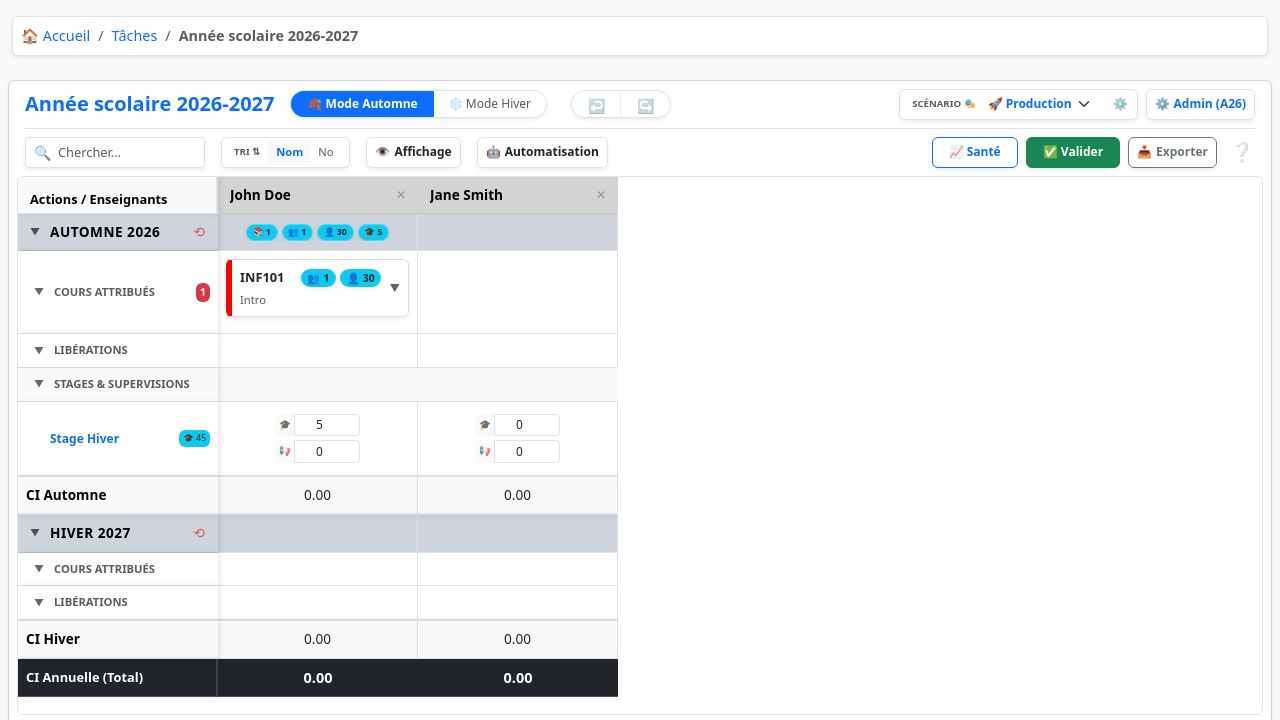
Test: Undo/Redo History Workflow › should undo an update to a supervision via keyboard shortcut
Click the button "👁️ Affichage": [414, 153] box [367, 137, 461, 168]
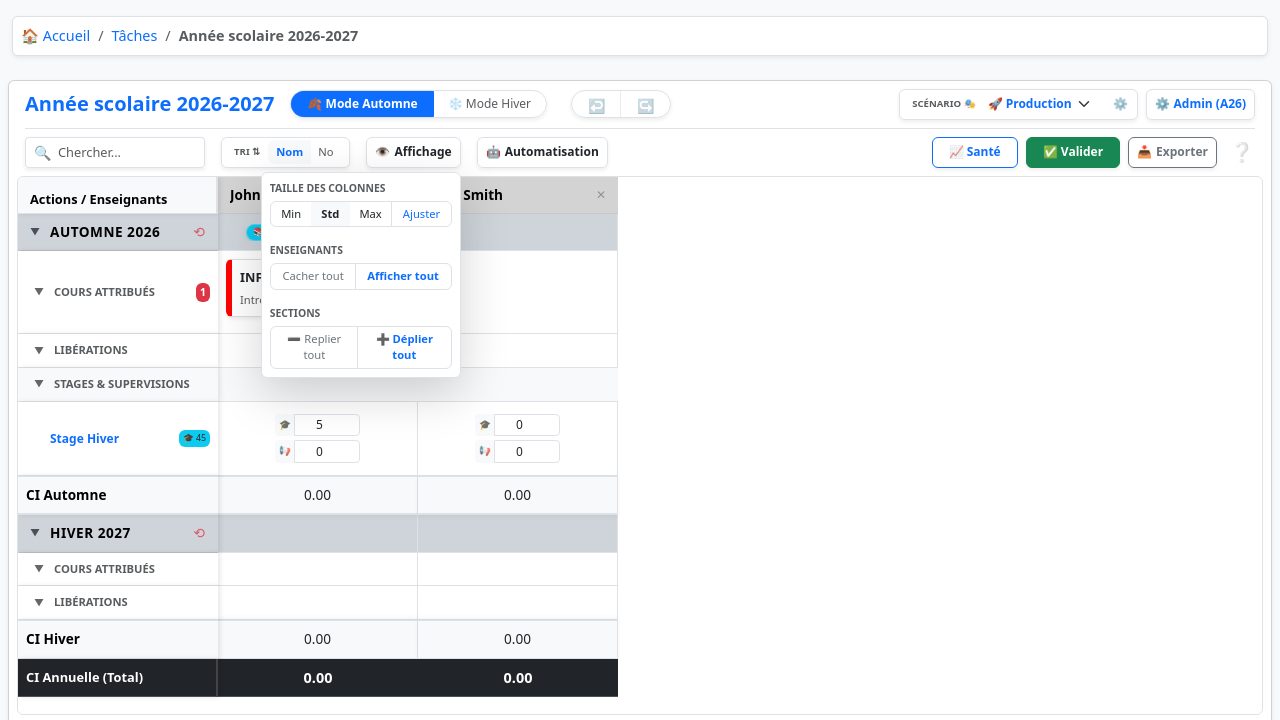
Click the button "➕ Déplier tout": [404, 348] box [357, 327, 451, 369]
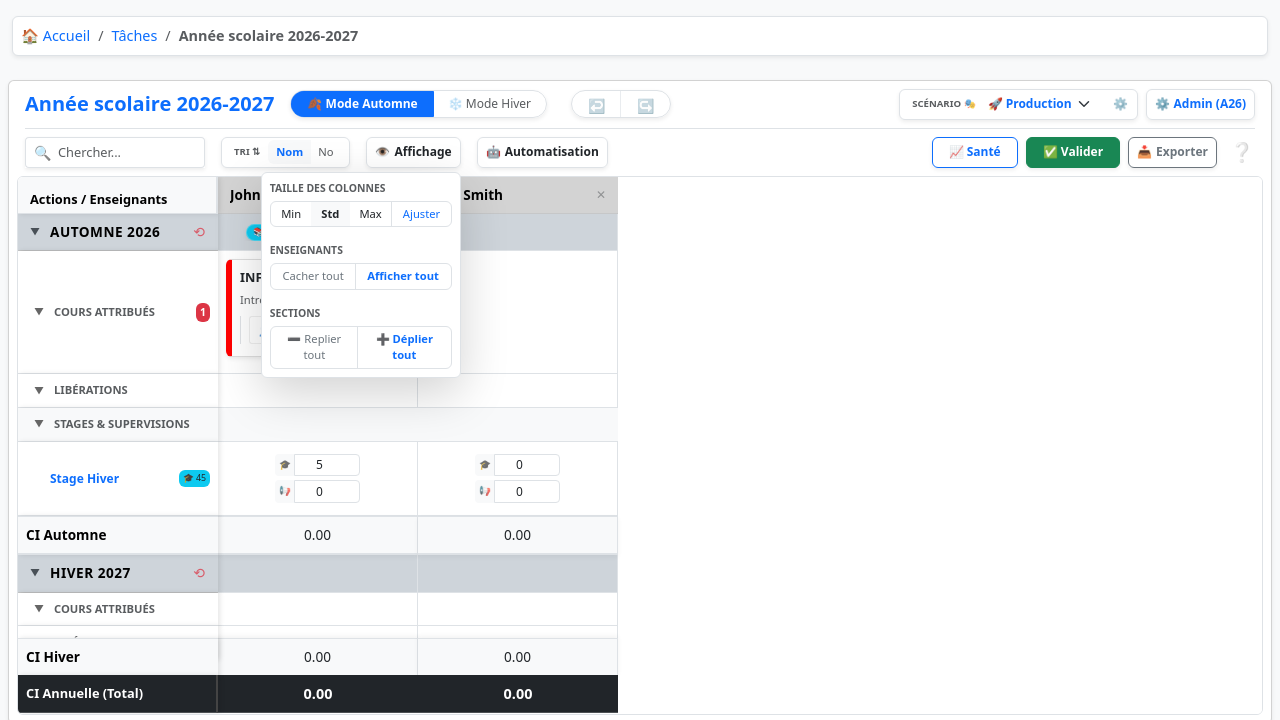
Replace the text in the 1st number field titled "Nombre de stagiaires" with "10": [327, 465] box [294, 454, 360, 476]
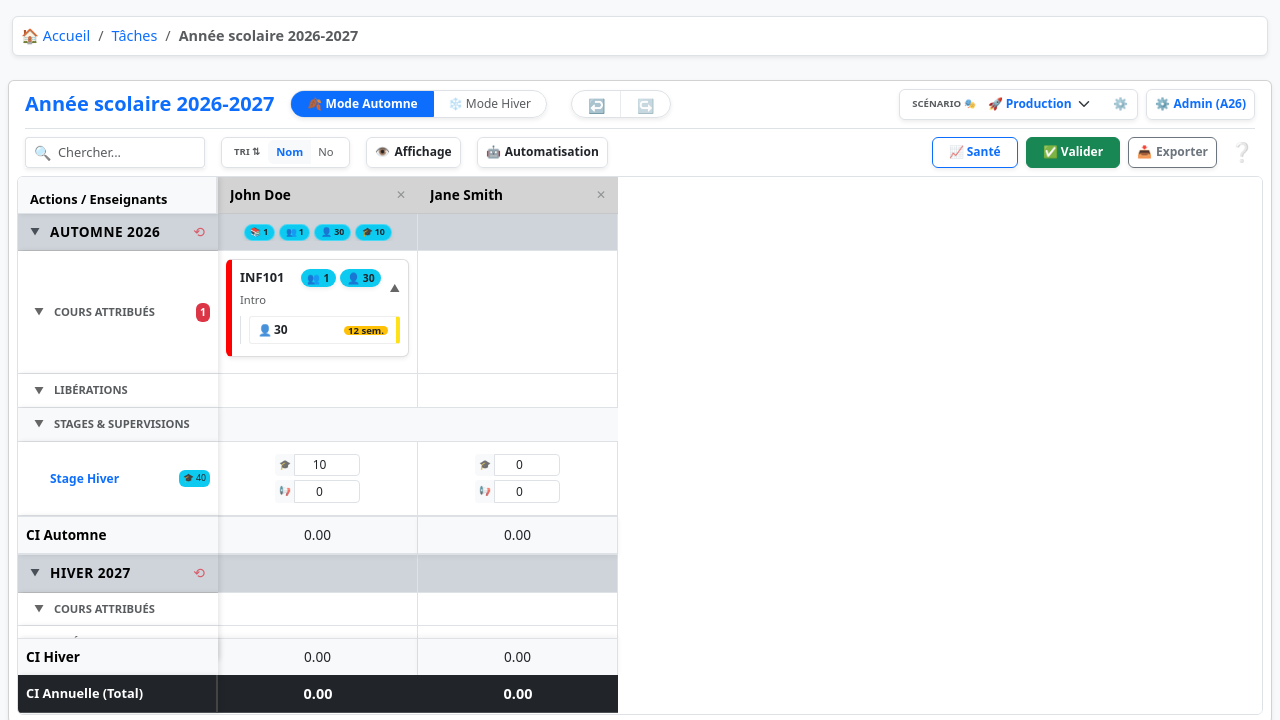
Click the button "↩️": [597, 104] box [572, 91, 621, 117]
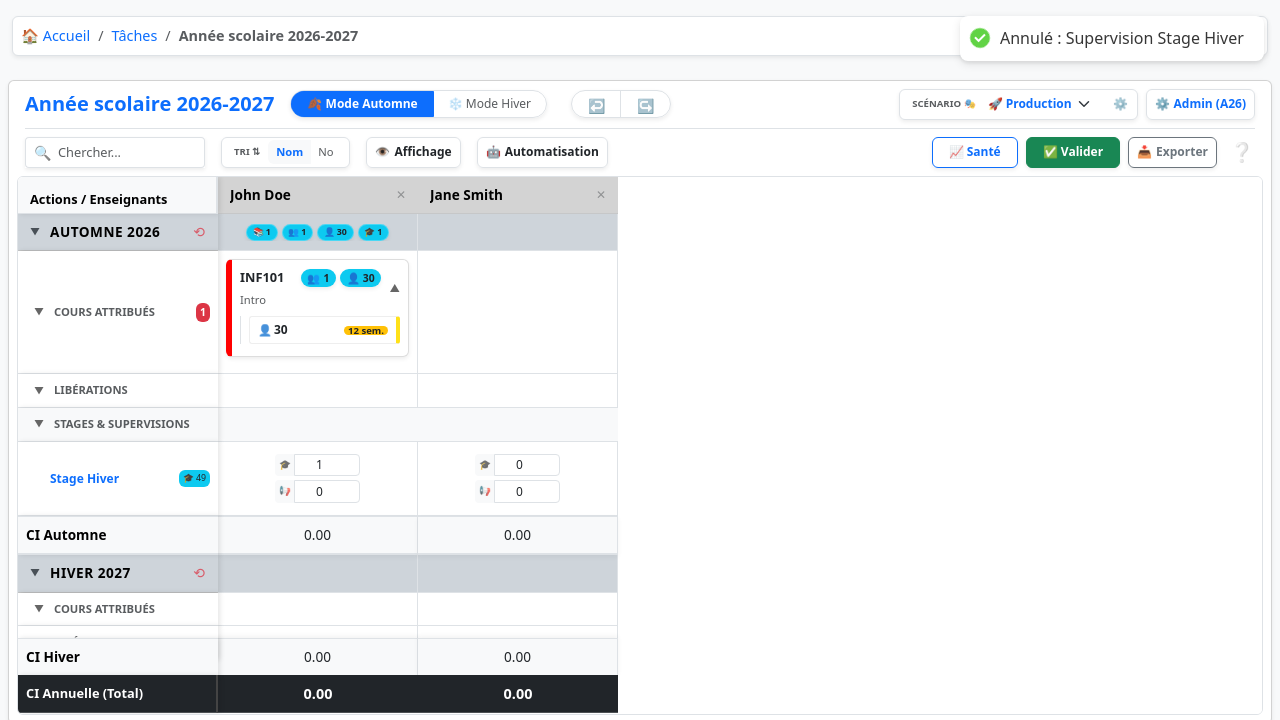
Expected: the text "Supervision Stage Hiver" is shown, [1000, 27, 1244, 49]
Expected: the 1st number field titled "Nombre de stagiaires" holds "1", [294, 454, 360, 476]
